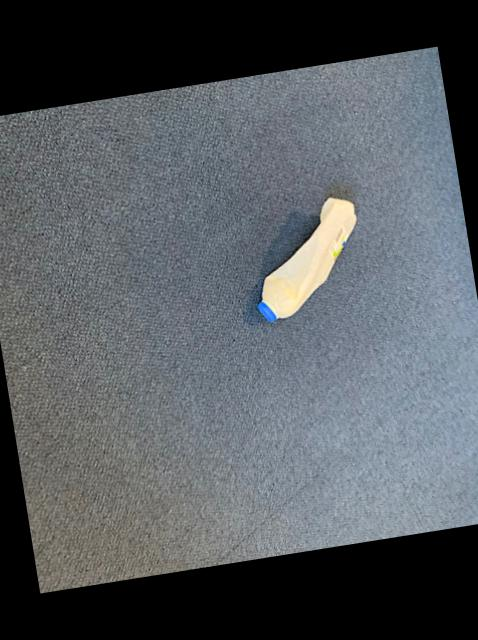plastic: (259, 197, 356, 320)
